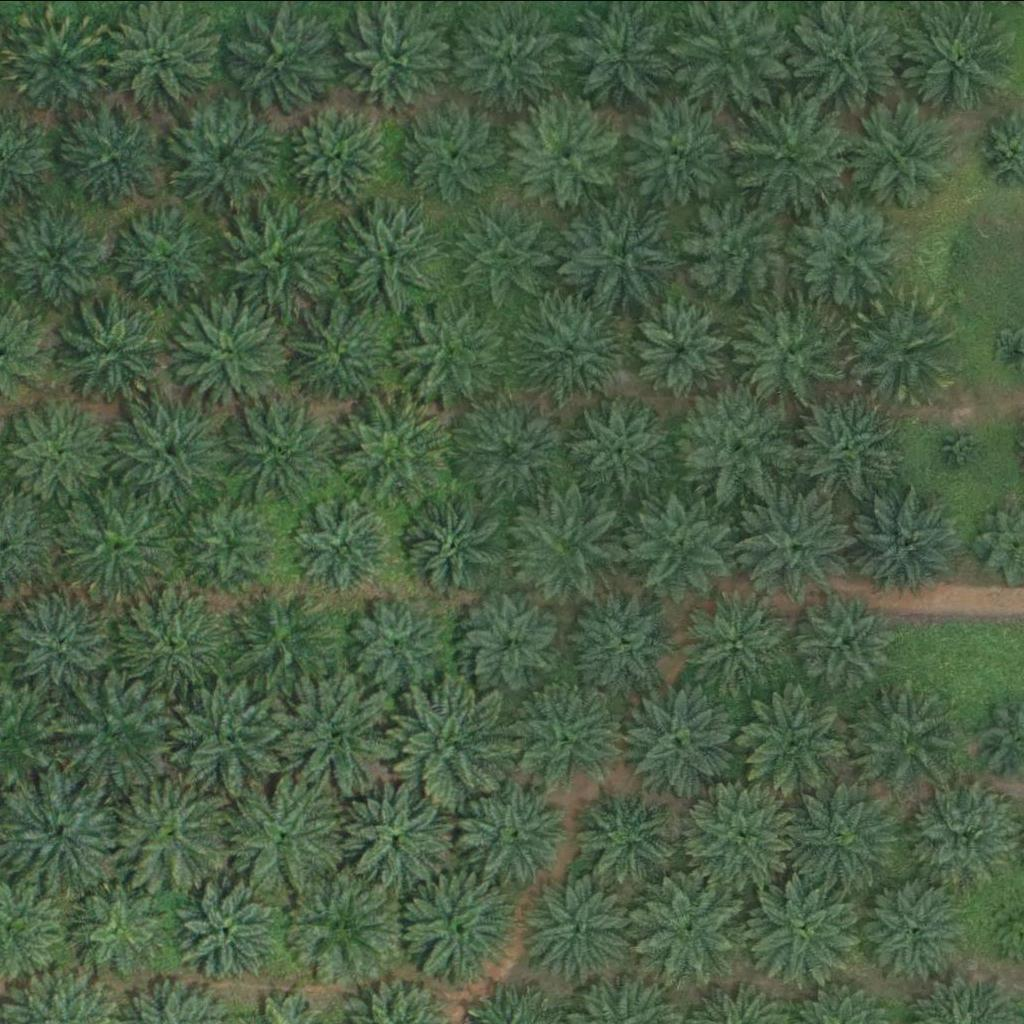Kelapa_Sawit: (55, 676, 169, 789), (221, 391, 335, 504), (397, 293, 511, 406), (892, 1, 1006, 114), (623, 98, 737, 211), (733, 101, 847, 214), (452, 200, 566, 313), (562, 198, 676, 311), (517, 290, 631, 403), (906, 776, 1020, 889), (747, 870, 861, 983), (1, 4, 114, 117), (3, 777, 116, 890), (400, 867, 513, 980), (116, 776, 229, 889), (175, 681, 288, 794), (281, 679, 394, 792), (396, 685, 509, 798), (54, 487, 167, 600), (114, 390, 227, 503), (175, 296, 288, 409), (284, 294, 397, 407), (222, 5, 335, 118), (344, 1, 457, 114), (843, 96, 956, 209), (683, 194, 796, 307), (627, 486, 740, 599), (740, 486, 853, 599), (855, 483, 968, 596), (676, 588, 789, 701), (687, 772, 800, 885), (782, 778, 895, 891), (522, 871, 635, 984), (638, 867, 751, 980), (6, 589, 120, 701), (114, 581, 228, 693), (346, 391, 460, 503), (844, 293, 957, 405), (1, 202, 114, 314), (286, 869, 399, 981), (228, 775, 341, 887), (334, 777, 447, 889), (229, 584, 342, 696), (455, 395, 568, 507), (55, 294, 168, 406), (108, 204, 221, 316), (224, 205, 337, 317), (338, 197, 451, 309), (171, 102, 284, 214), (395, 98, 508, 210), (510, 100, 623, 212), (790, 190, 903, 302), (734, 295, 847, 407), (680, 395, 793, 507), (787, 391, 900, 503), (509, 492, 622, 604), (513, 680, 626, 792), (624, 683, 737, 795), (736, 678, 849, 790), (843, 679, 956, 791), (458, 773, 571, 885), (9, 399, 110, 499), (63, 878, 164, 978), (174, 882, 275, 982), (346, 592, 447, 692), (465, 590, 566, 690), (407, 490, 508, 590), (63, 108, 164, 208), (286, 105, 387, 205), (631, 298, 732, 398), (572, 396, 673, 496), (569, 590, 670, 690), (796, 589, 897, 689), (575, 780, 676, 880), (294, 495, 394, 595), (864, 875, 964, 975), (191, 501, 279, 589), (934, 419, 985, 469), (927, 228, 977, 278)
